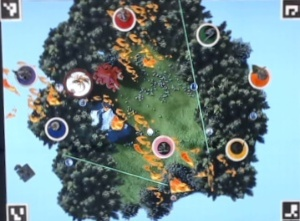blue: (41, 114, 70, 141)
green: (194, 20, 219, 47)
orange: (245, 64, 270, 88)
pink: (149, 133, 176, 158)
red: (110, 5, 137, 31)
violet: (11, 62, 37, 86)
yellow: (223, 136, 251, 162)
